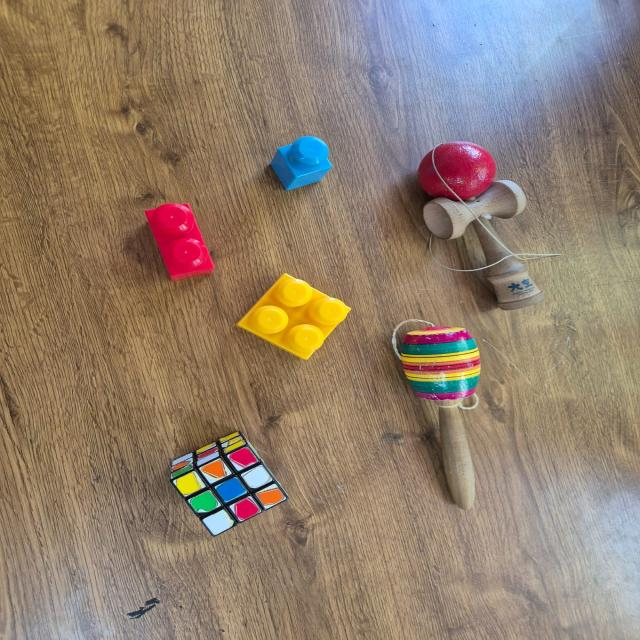balero: (388, 320, 488, 507)
balero ball: (415, 142, 572, 316)
lego 2: (142, 202, 215, 280)
lego 4: (235, 274, 352, 355)
lego_1: (269, 134, 333, 190)
rubick: (168, 429, 290, 535)
